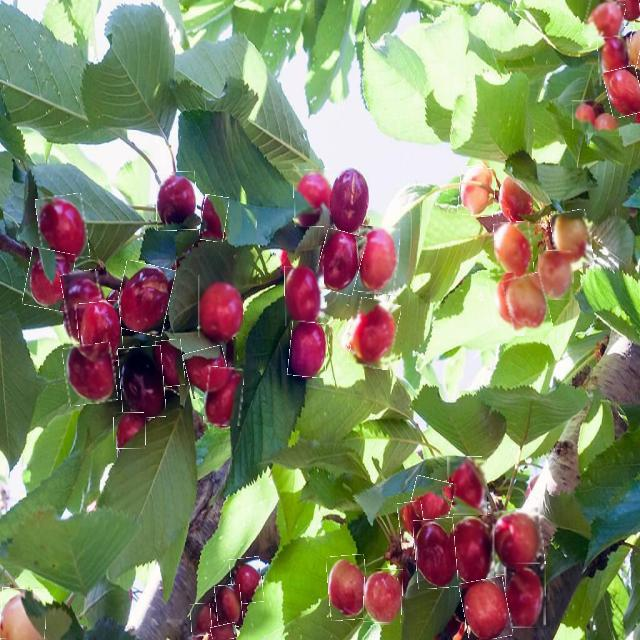cherry: (115, 262, 173, 335), (490, 508, 544, 574), (38, 195, 88, 261), (351, 299, 398, 369), (119, 346, 164, 419), (64, 271, 106, 347), (414, 518, 458, 589), (24, 249, 74, 311), (316, 230, 364, 294), (65, 344, 116, 404), (461, 578, 510, 640), (354, 227, 399, 294), (330, 166, 372, 236), (454, 516, 494, 586), (198, 275, 243, 337), (77, 301, 122, 363), (504, 564, 546, 628), (506, 274, 550, 335), (328, 556, 368, 620), (285, 266, 324, 326), (0, 588, 45, 640), (156, 172, 196, 230), (447, 457, 487, 515), (204, 367, 243, 426), (294, 169, 334, 226), (494, 222, 533, 280), (186, 347, 230, 397), (289, 322, 328, 378), (552, 211, 592, 265), (363, 569, 403, 623), (410, 477, 454, 526), (496, 173, 536, 225), (458, 167, 495, 217), (604, 66, 640, 116), (538, 251, 574, 300), (490, 273, 522, 327), (584, 0, 624, 41), (598, 37, 630, 86), (231, 557, 263, 604), (200, 195, 228, 242), (157, 340, 184, 386), (114, 413, 146, 449), (215, 585, 242, 627), (399, 501, 425, 543), (626, 20, 640, 72), (190, 603, 212, 636), (572, 100, 597, 129), (595, 106, 619, 136), (613, 0, 640, 26), (210, 623, 236, 640)
